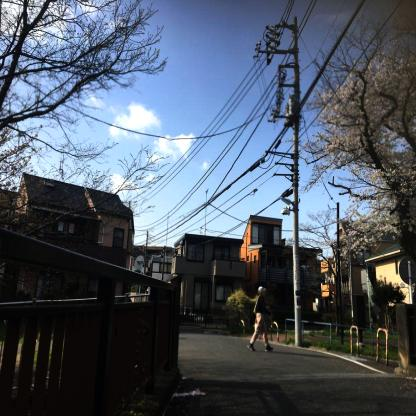Someiyoshino: (292, 1, 416, 260)
